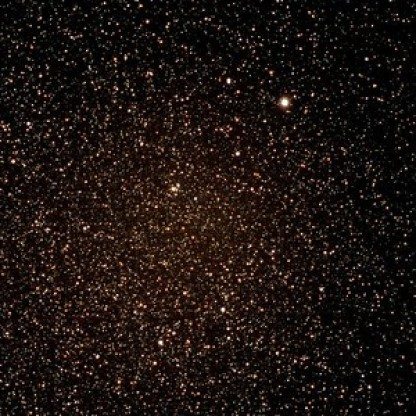Lyra: (265, 89, 297, 114), (225, 140, 251, 166), (165, 178, 189, 199), (149, 330, 171, 352), (214, 300, 236, 319), (218, 69, 235, 90)
